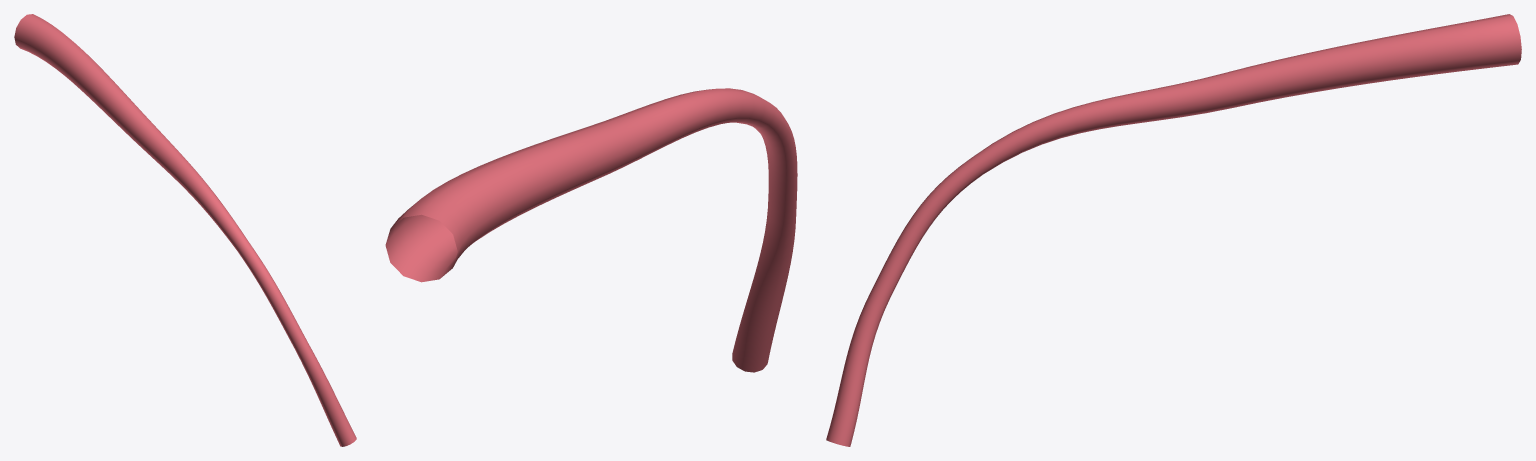
The picture shows the model from 3 angles, left to right: view 1: azimuth 30°, elevation 25°; view 2: azimuth 150°, elevation 25°; view 3: azimuth 270°, elevation 25°; orthographic projection. The views are drawn at different scales.
Visible parts, largest first — view 1: ZA_d81b12c2e7a77270; view 2: ZA_d81b12c2e7a77270; view 3: ZA_d81b12c2e7a77270.
Part boxes in pixels (left/top/right/bottom): ZA_d81b12c2e7a77270: left=14, top=14, right=356, bottom=446; ZA_d81b12c2e7a77270: left=385, top=88, right=797, bottom=372; ZA_d81b12c2e7a77270: left=826, top=14, right=1521, bottom=446.
Size of the model in its own units: 0.00634 by 0.0163 by 0.0271.
